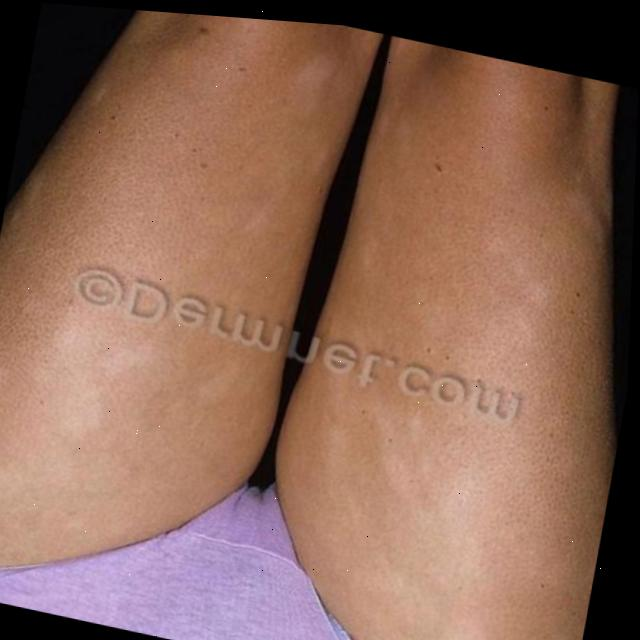Eczema: (321, 304, 630, 640), (0, 190, 257, 455)
